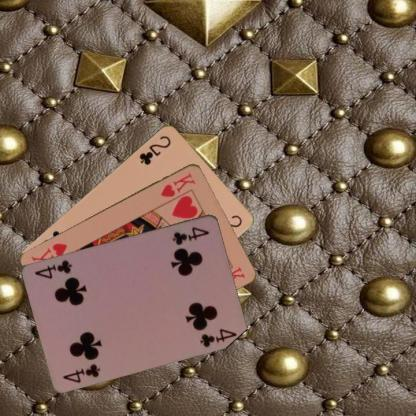2c: (136, 132, 172, 166)
4c: (61, 361, 102, 384), (170, 224, 211, 246)
Kh: (158, 170, 198, 198)
